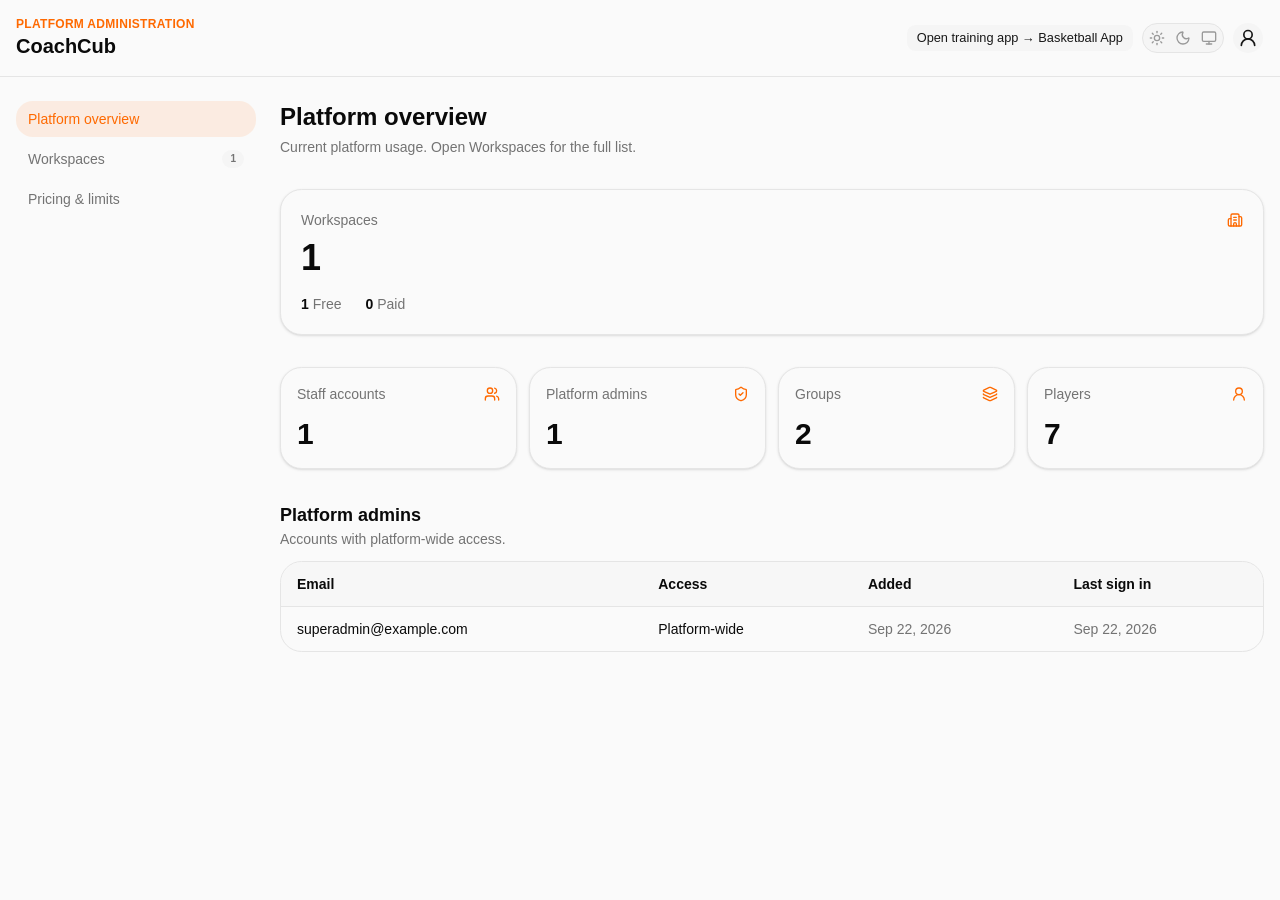
Scenario: SuperAdminDashboard › shows platform data and account access
Expected: the heading "Platform overview" is shown, x1=280 y1=103 x2=487 y2=130
Expected: the button with aria-label "Workspaces: 1 total, 1 free, 0 paid" is shown, x1=280 y1=189 x2=1264 y2=335
Click the button "Workspaces 1" at (136, 159), box x1=16 y1=141 x2=256 y2=177
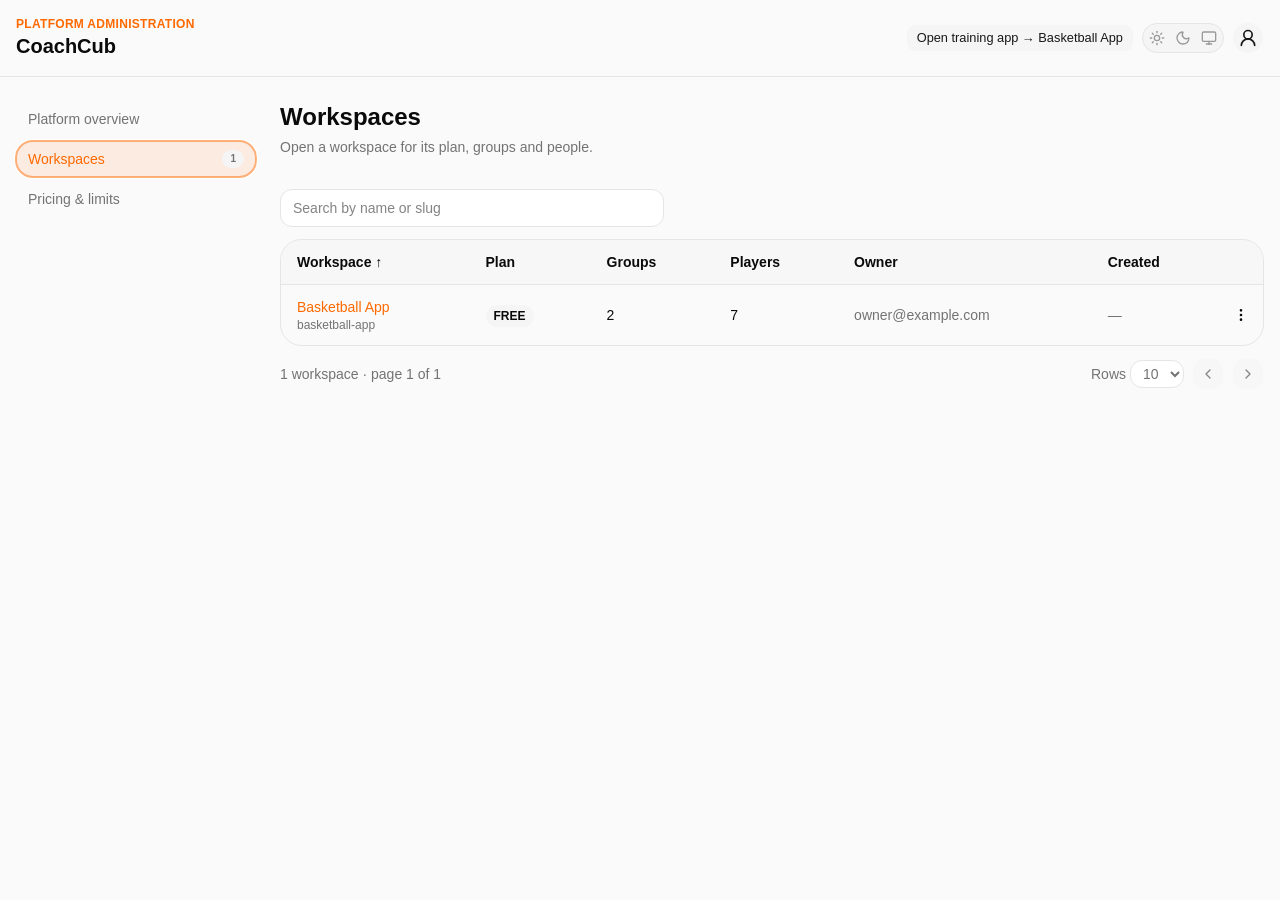
Now the heading "Workspaces" is shown, box x1=280 y1=103 x2=421 y2=130
Click the button "Basketball App" at (343, 307), box x1=297 y1=297 x2=390 y2=317
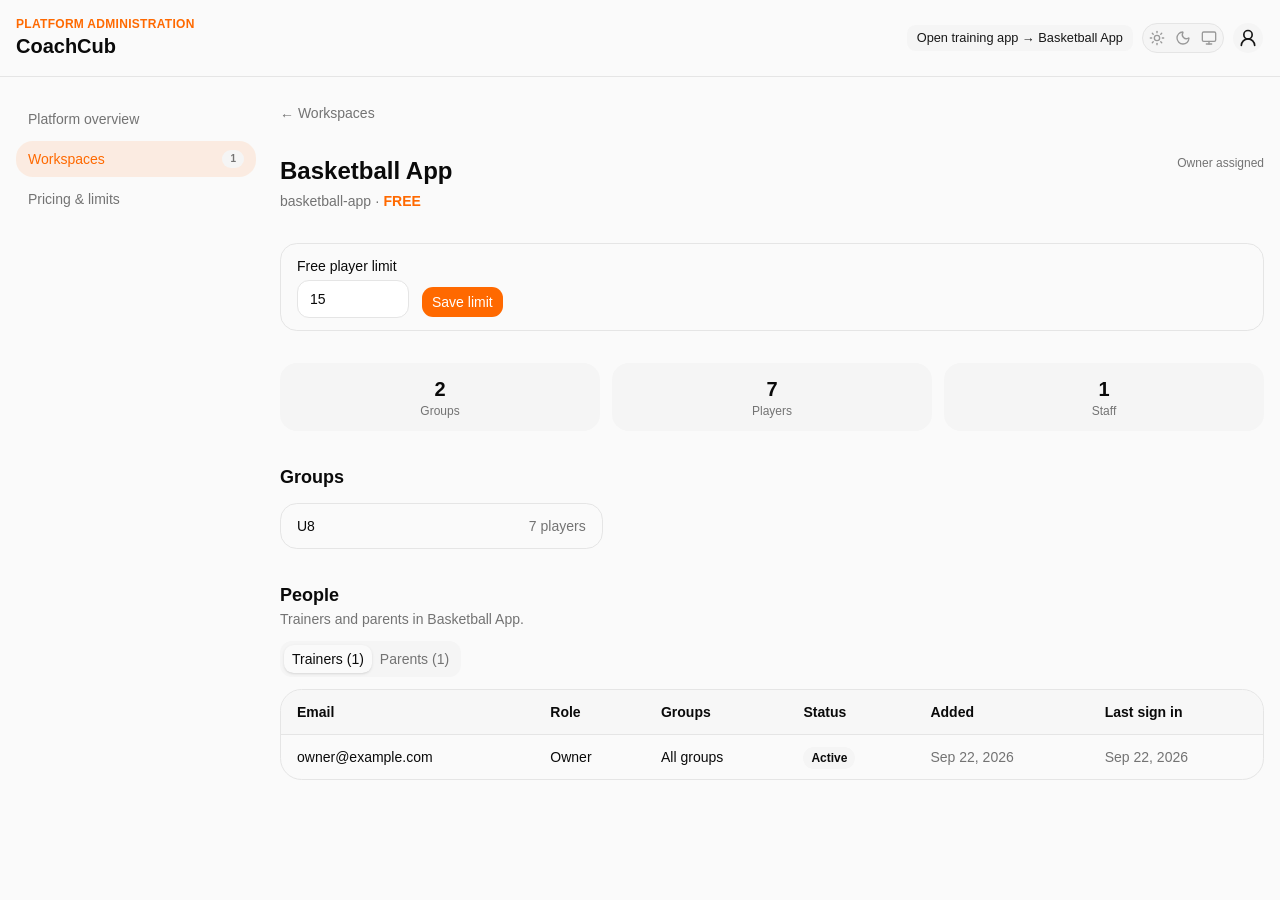
Now the heading "Basketball App" is shown, box x1=280 y1=155 x2=452 y2=187
Now the text "U8" is shown, box x1=297 y1=516 x2=315 y2=536
Click the tab "Trainers (1)" at (328, 659), box x1=284 y1=645 x2=372 y2=673
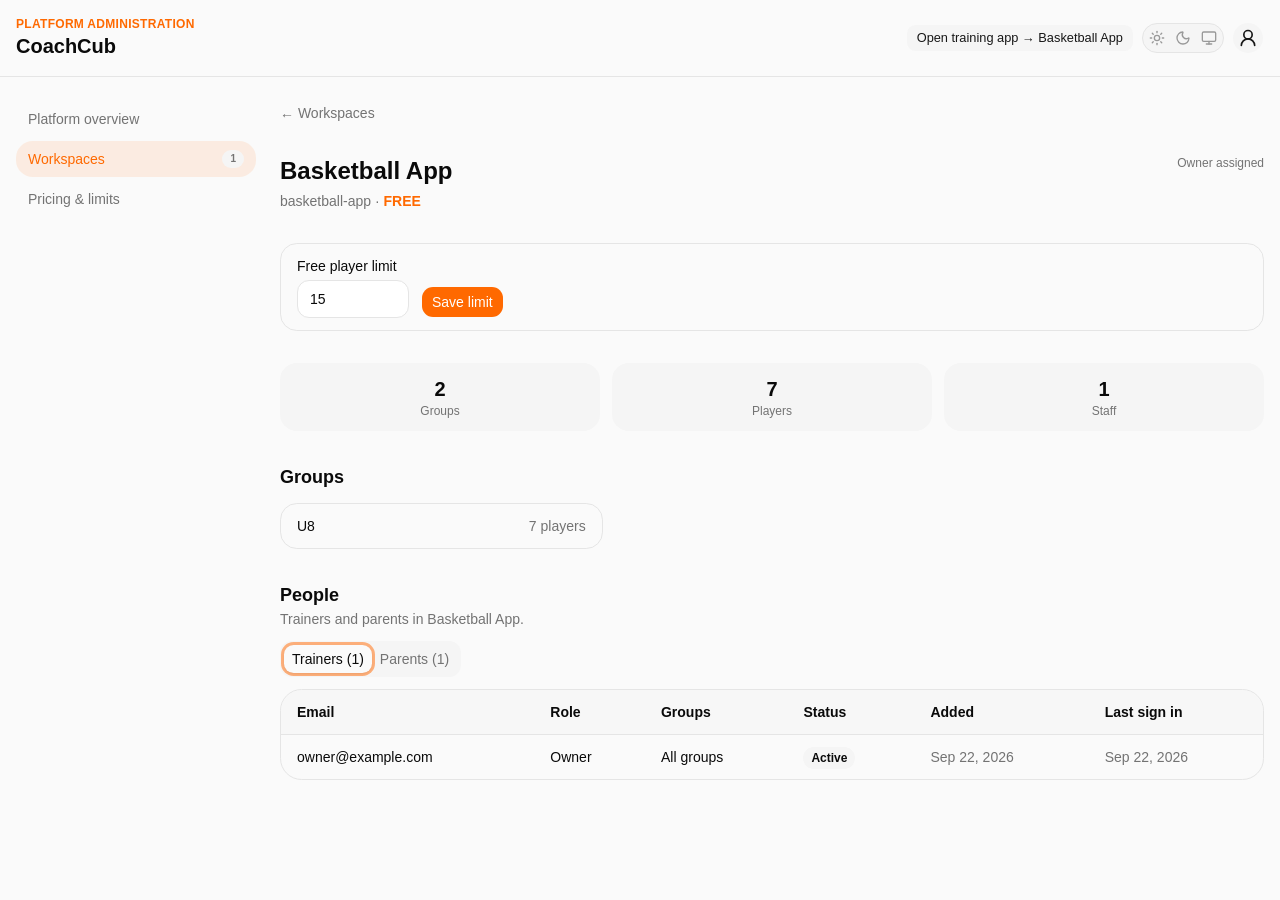
Now the text "owner@example.com" is shown, box x1=281 y1=734 x2=534 y2=779
Now the text "All groups" is shown, box x1=645 y1=734 x2=788 y2=779
Click the tab "Parents (1)" at (415, 659), box x1=372 y1=645 x2=457 y2=673
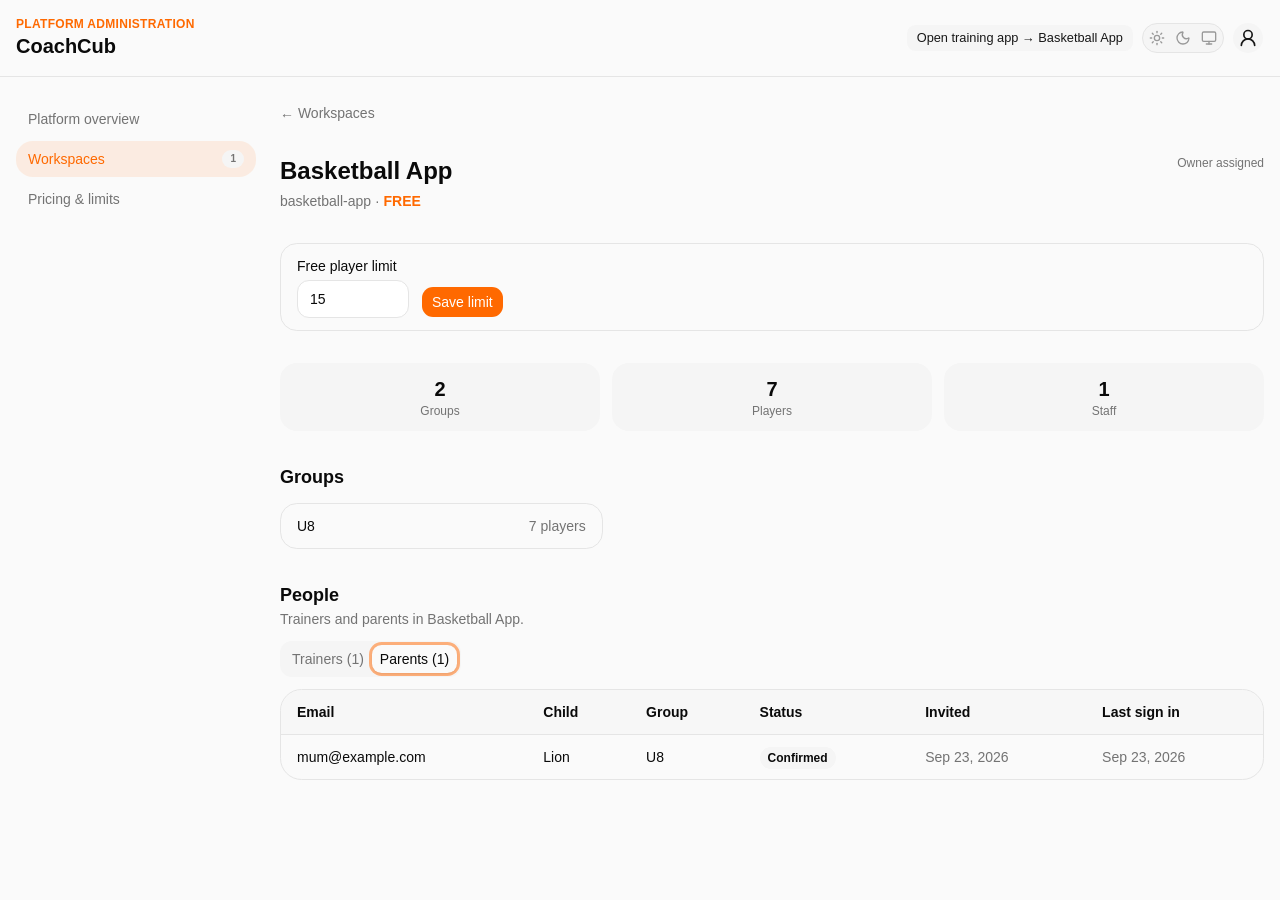
Now the text "mum@example.com" is shown, box x1=281 y1=734 x2=527 y2=779
Now the text "Lion" is shown, box x1=527 y1=734 x2=630 y2=779
Now the text "Confirmed" is shown, box x1=760 y1=747 x2=836 y2=769
// Back to the platform overview from the sidebar.
Click the button "Platform overview" at (136, 119), box x1=16 y1=101 x2=256 y2=137
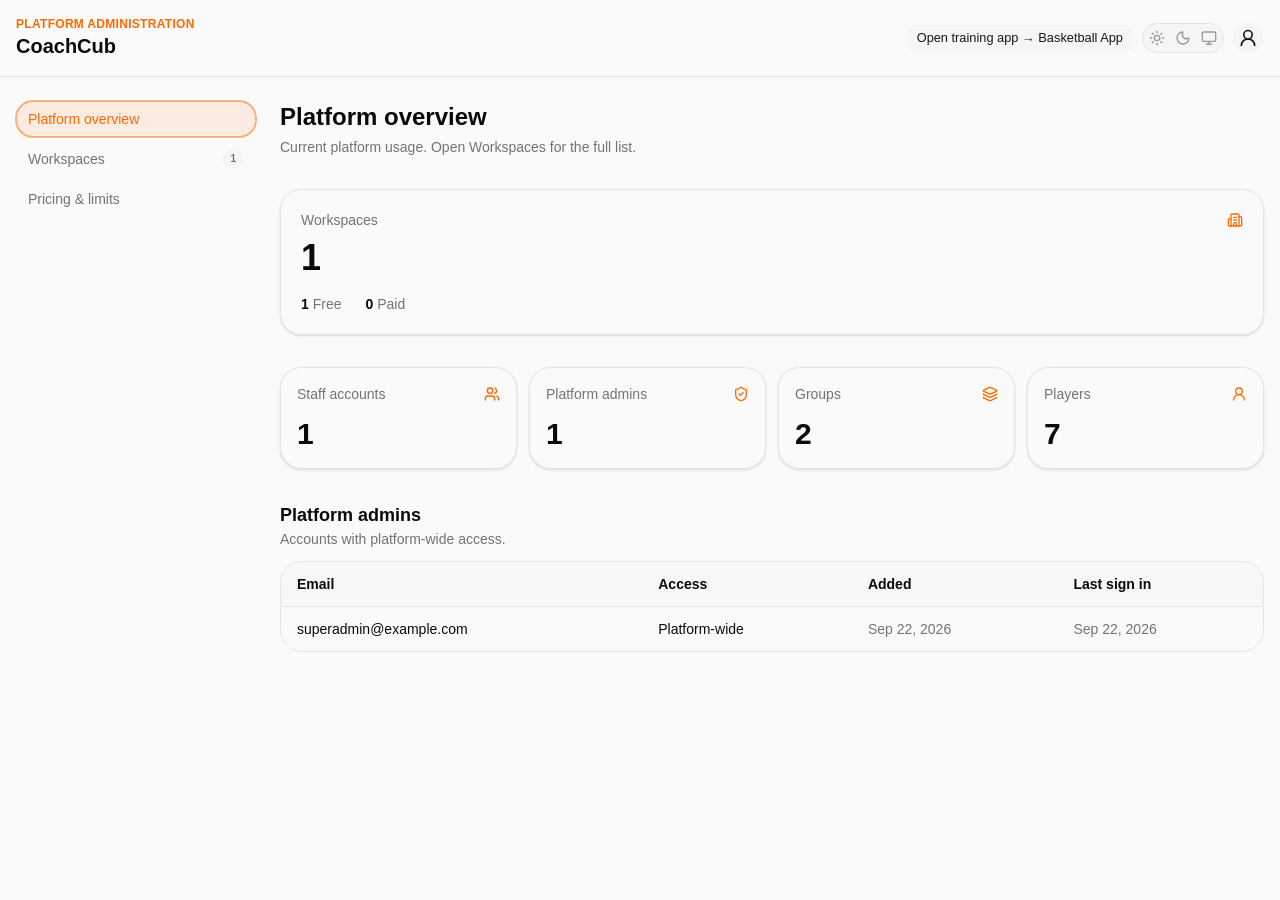
Now the heading "Platform overview" is shown, box x1=280 y1=103 x2=487 y2=130
